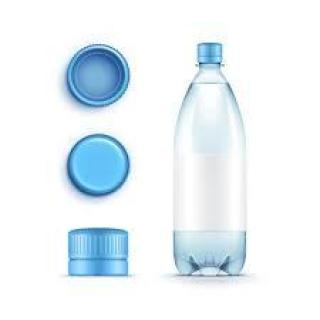Plastic-bottle: (172, 43, 251, 279)
